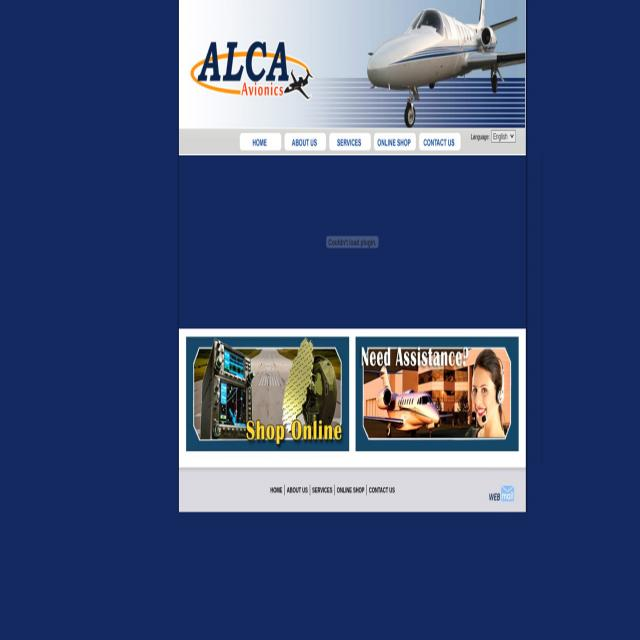button: (352, 329, 526, 466), (179, 329, 352, 466), (190, 26, 324, 111), (487, 480, 521, 512), (284, 133, 326, 151), (329, 133, 371, 151), (374, 133, 416, 150), (240, 133, 282, 150), (419, 133, 461, 150)
field: (492, 130, 516, 142)
